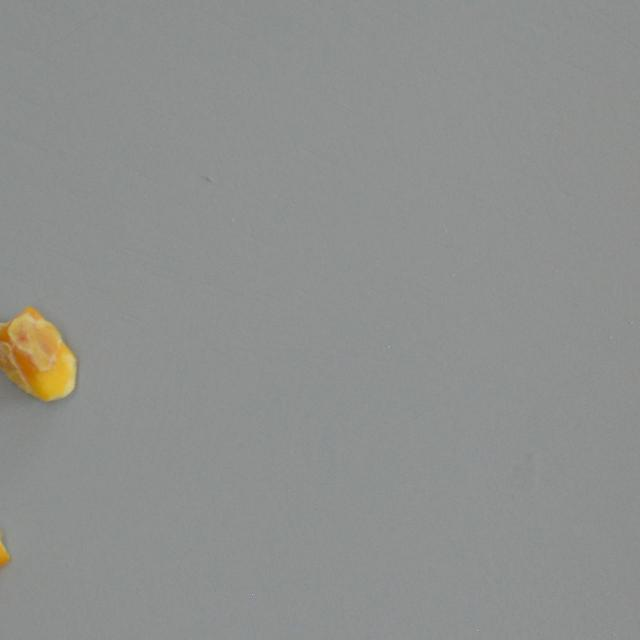dañado: (0, 302, 80, 408), (0, 510, 16, 615)
